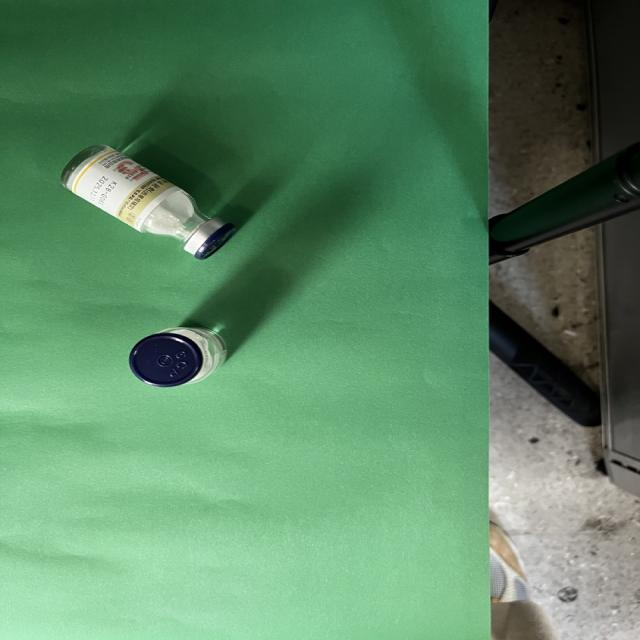Vials: (60, 143, 237, 260), (129, 326, 227, 387)
